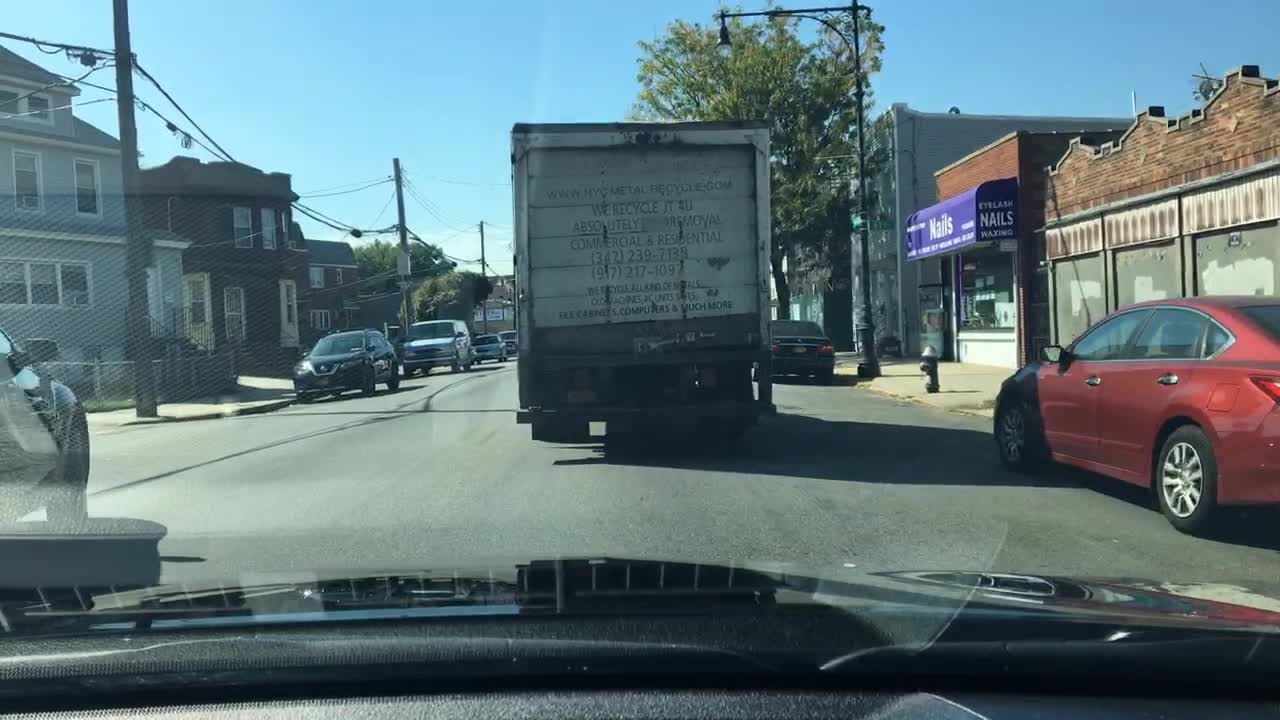car: (993, 293, 1278, 535), (0, 321, 90, 524), (291, 328, 400, 403), (754, 319, 835, 383), (400, 317, 473, 377), (469, 334, 508, 364), (498, 328, 518, 353)
traffic sign: (396, 255, 410, 274)
truck: (507, 115, 773, 443)
